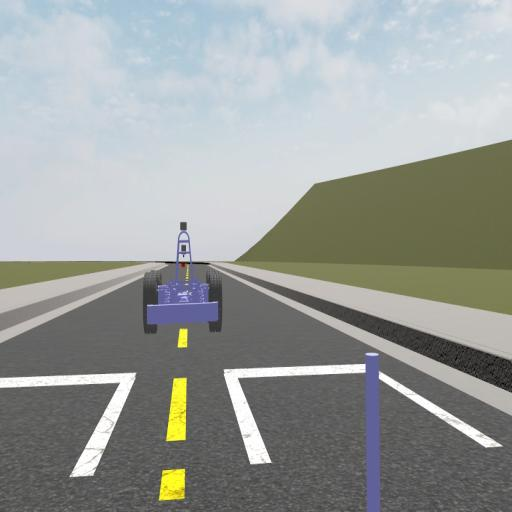ERP-42: (142, 220, 222, 332)
